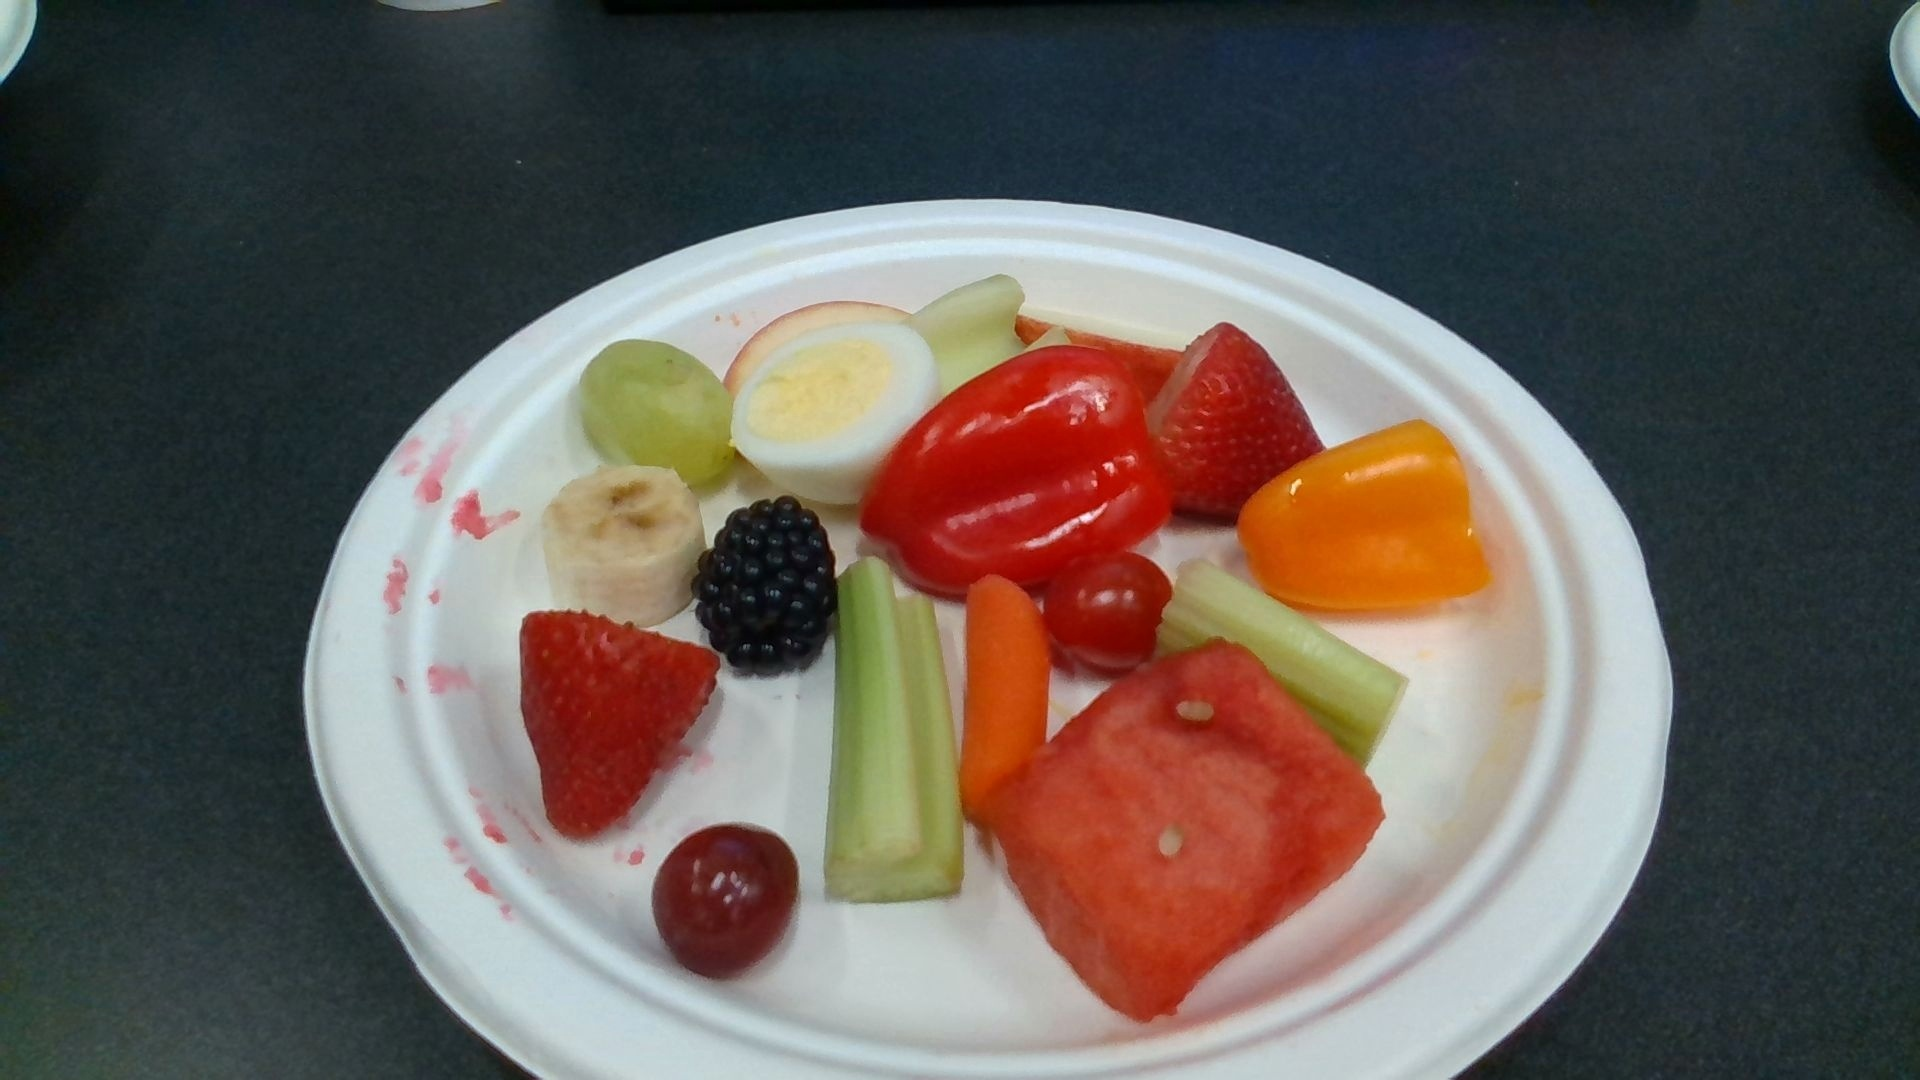banana: (545, 465, 704, 621)
bell_pepper: (862, 345, 1170, 595), (1234, 421, 1487, 611)
blackberry: (692, 498, 833, 671)
carrot: (960, 575, 1048, 818)
celery: (1155, 560, 1404, 760), (832, 556, 964, 903)
cherry_tomato: (1050, 551, 1170, 666)
egg: (732, 320, 932, 502)
grape_green: (580, 342, 732, 485)
grape_purple: (655, 828, 796, 982)
melon: (984, 638, 1382, 1015)
strawberry: (520, 611, 713, 837), (1145, 323, 1325, 513)
